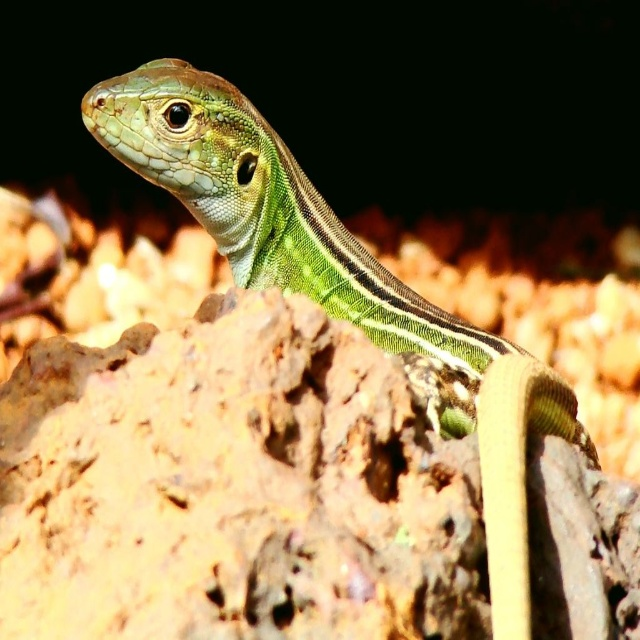Lizard: (80, 58, 602, 640)
